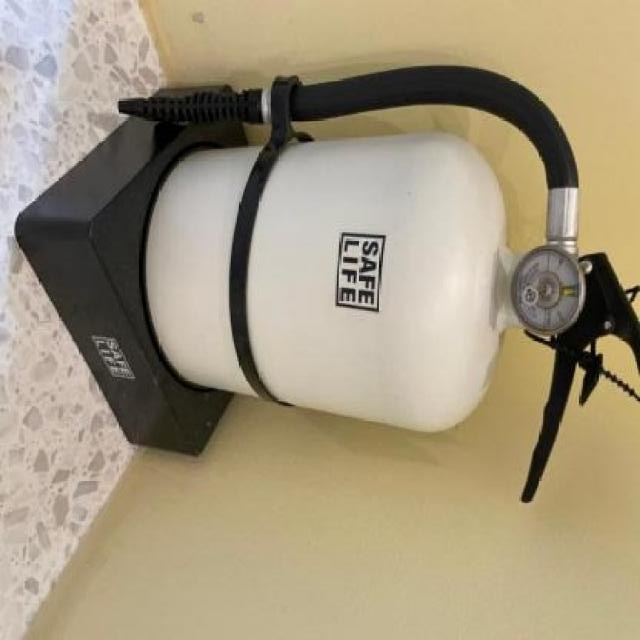fire extinguisher: (117, 65, 640, 506)
